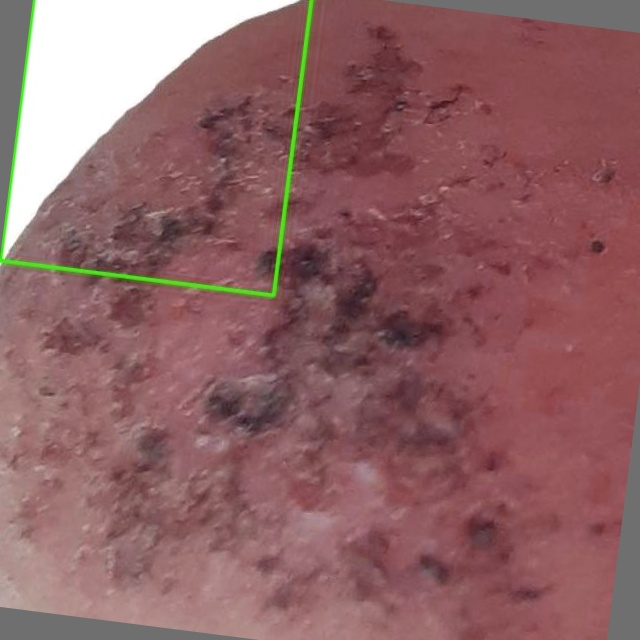Contact Dermatitis: (0, 0, 312, 294)
